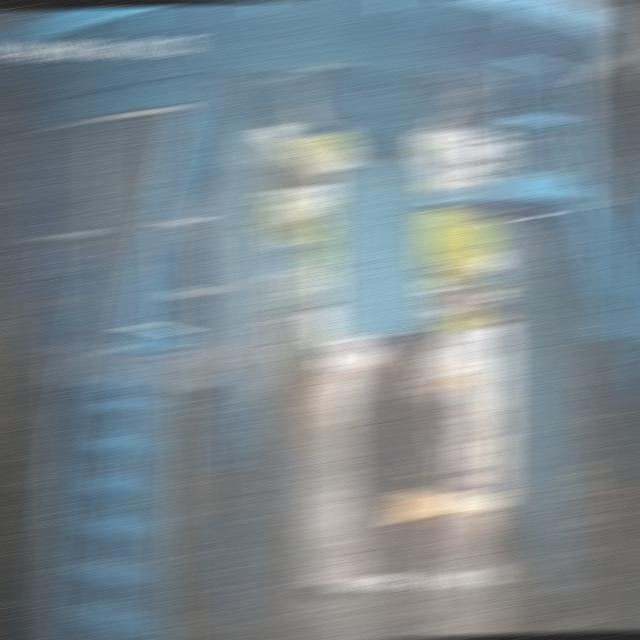cement_mixer_truck: (343, 264, 455, 468)
